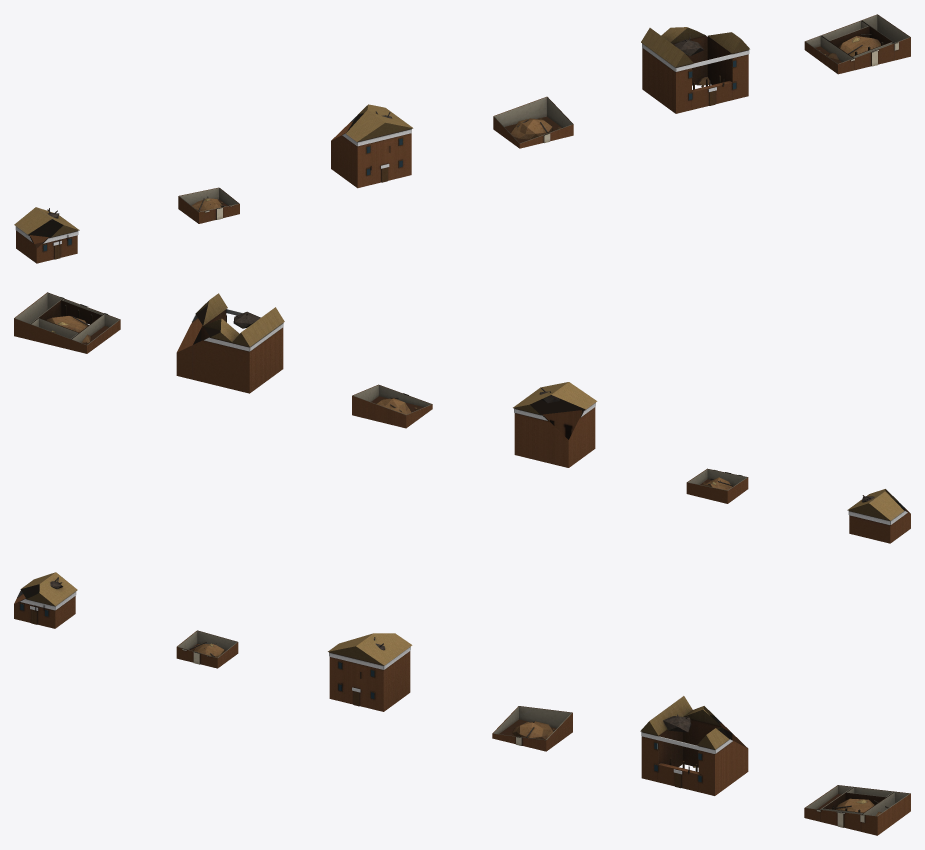
The model's file is classical-westafrica-houses-damage.glb.
The picture shows the model from 3 angles, top to bottom: view 1: azimuth 30°, elevation 25°; view 2: azimuth 150°, elevation 25°; view 3: azimuth 330°, elevation 25°; orthographic projection.
Visible parts, largest first — view 1: LOD0.004, LOD0.002, LOD0.005, LOD0.003, LOD0, LOD0.001; view 2: LOD0.004, LOD0.002, LOD0.005, LOD0, LOD0.003, LOD0.001; view 3: LOD0.004, LOD0.002, LOD0.005, LOD0, LOD0.003, LOD0.001.
Part boxes in pixels (bbox=[...]): LOD0.004: bbox=[641, 27, 749, 113]; LOD0.002: bbox=[331, 104, 413, 188]; LOD0.005: bbox=[804, 14, 910, 74]; LOD0.003: bbox=[493, 96, 573, 148]; LOD0: bbox=[14, 207, 79, 263]; LOD0.001: bbox=[178, 187, 239, 223]; LOD0.004: bbox=[176, 293, 284, 393]; LOD0.002: bbox=[513, 382, 597, 467]; LOD0.005: bbox=[14, 292, 120, 353]; LOD0: bbox=[847, 489, 910, 543]; LOD0.003: bbox=[352, 384, 432, 428]; LOD0.001: bbox=[686, 468, 748, 503]; LOD0.004: bbox=[640, 696, 748, 795]; LOD0.002: bbox=[328, 633, 412, 711]; LOD0.005: bbox=[804, 785, 910, 835]; LOD0: bbox=[14, 572, 77, 628]; LOD0.003: bbox=[492, 706, 572, 751]; LOD0.001: bbox=[176, 630, 238, 668].
Size of what is drawn, in the model's own units: 16.08 by 1.06 by 1.11.
Materials: 2 (2 with a texture image).
